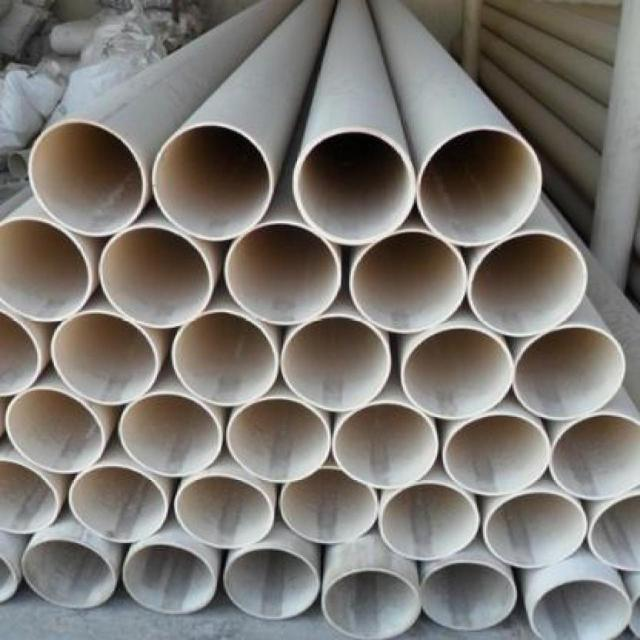pipe: (292, 126, 417, 246), (151, 122, 274, 241), (417, 128, 542, 245), (27, 119, 146, 235), (468, 231, 588, 337), (349, 230, 466, 335), (225, 222, 342, 326), (98, 225, 214, 329), (281, 315, 392, 412), (514, 326, 627, 420), (401, 326, 515, 419), (171, 310, 279, 407), (51, 311, 159, 406), (0, 215, 92, 321), (333, 402, 440, 490), (226, 396, 331, 484), (443, 413, 552, 496), (119, 392, 222, 477), (5, 388, 104, 475), (482, 491, 589, 570), (378, 482, 480, 560), (549, 412, 639, 500), (69, 464, 167, 543), (280, 466, 378, 545), (174, 474, 273, 550), (323, 565, 421, 639), (224, 547, 323, 618), (21, 538, 117, 611), (122, 543, 216, 616), (421, 561, 518, 631), (529, 577, 634, 639), (0, 459, 60, 536), (587, 495, 640, 574), (0, 310, 42, 398)
